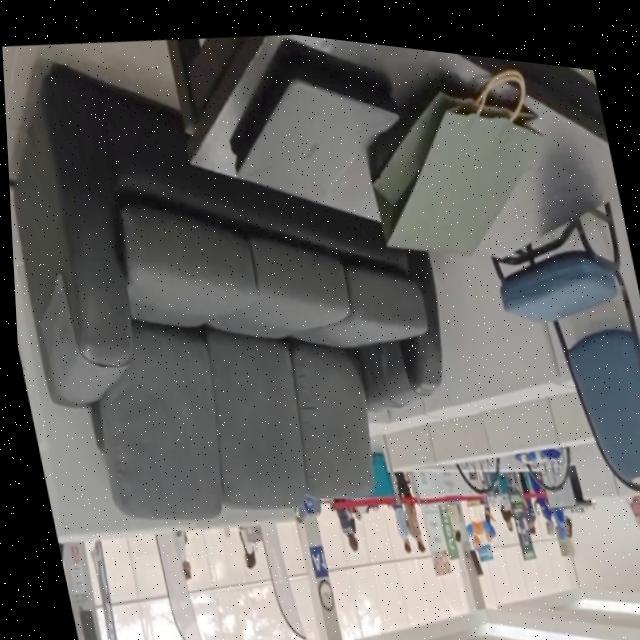sandalye: (93, 202, 251, 517), (490, 188, 640, 478), (202, 253, 329, 502), (287, 262, 423, 489)
